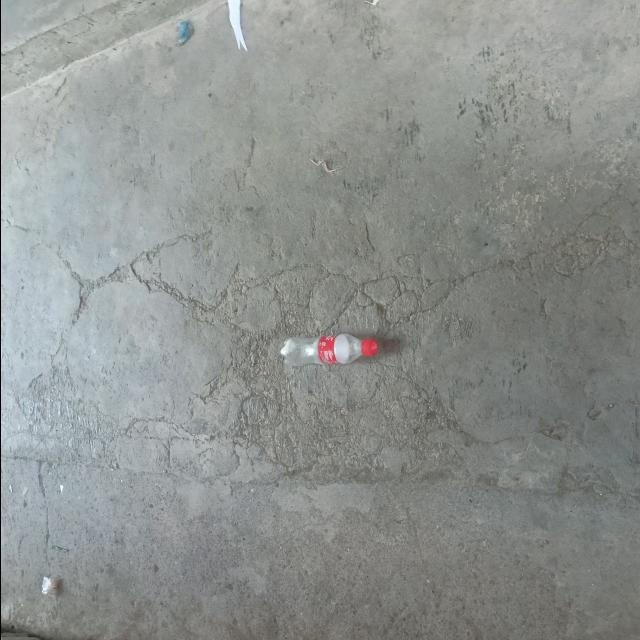Bottle: (279, 334, 377, 366)
